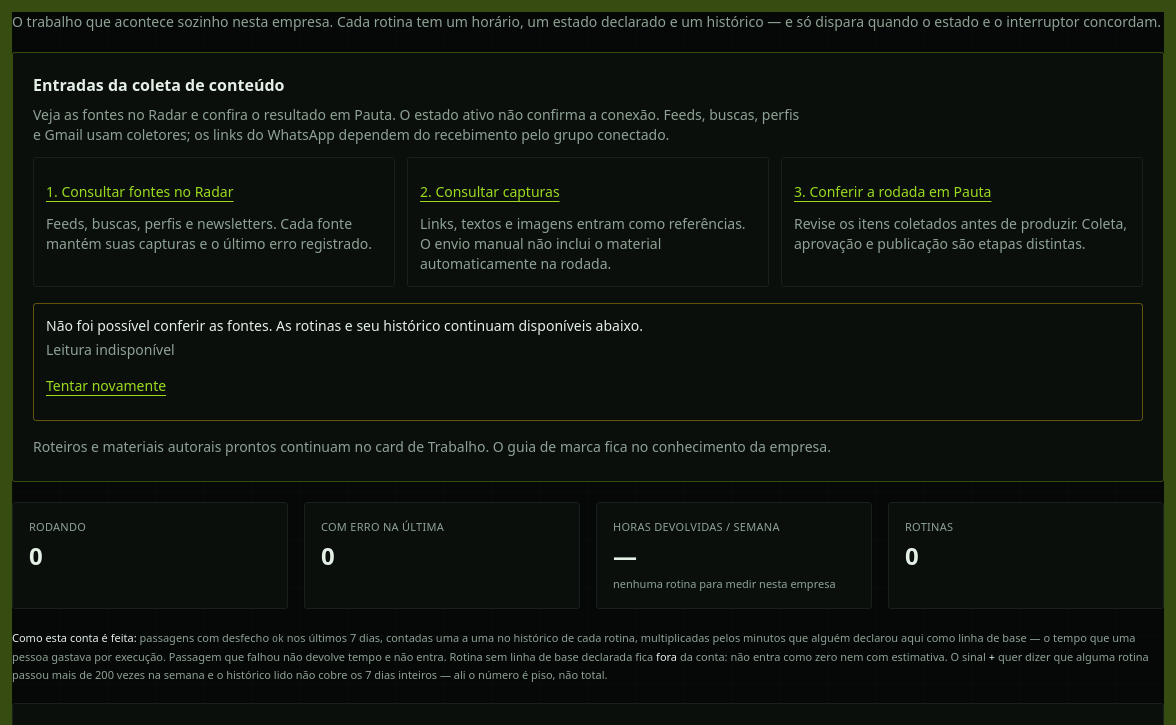
Test: entradas da coleta › falha nas fontes mantém as rotinas e permite tentar novamente
This screenshot has width=1176, height=725.
Check: the text "Não foi possível conferir as fontes" is shown, box [46, 316, 643, 335]
Click the button "Tentar novamente": (106, 386) [46, 364, 166, 408]
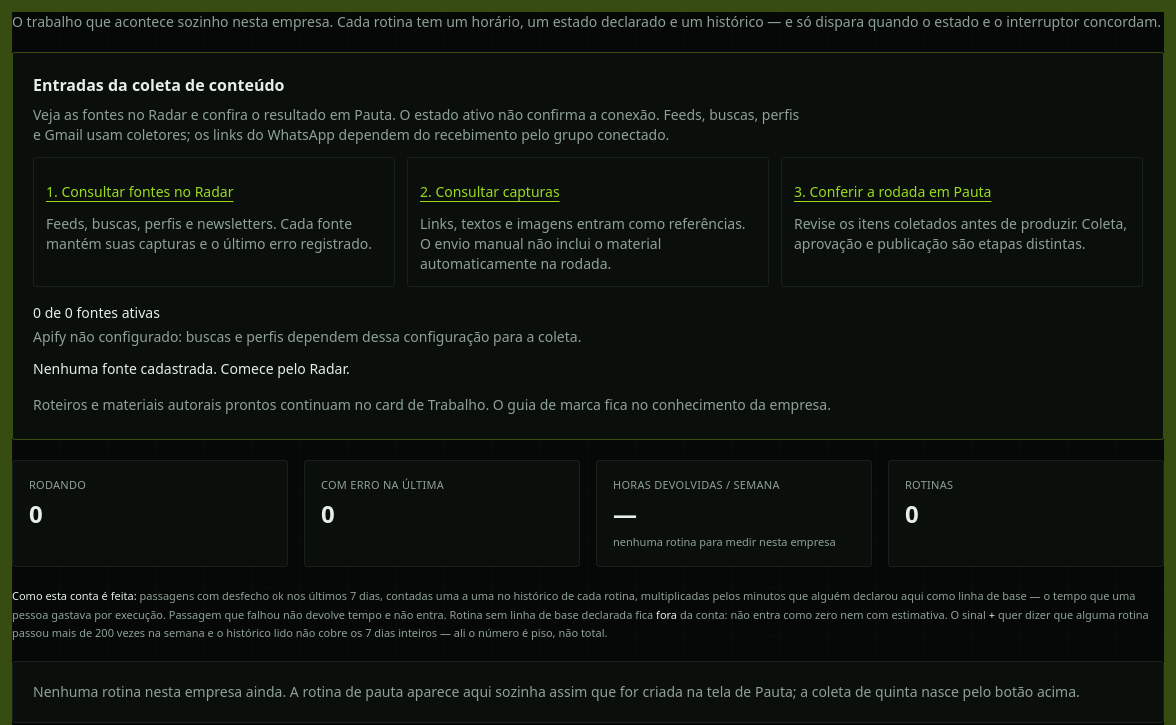
Check: the text "Nenhuma fonte cadastrada. Comece pelo Radar." is shown, box [33, 359, 350, 378]
